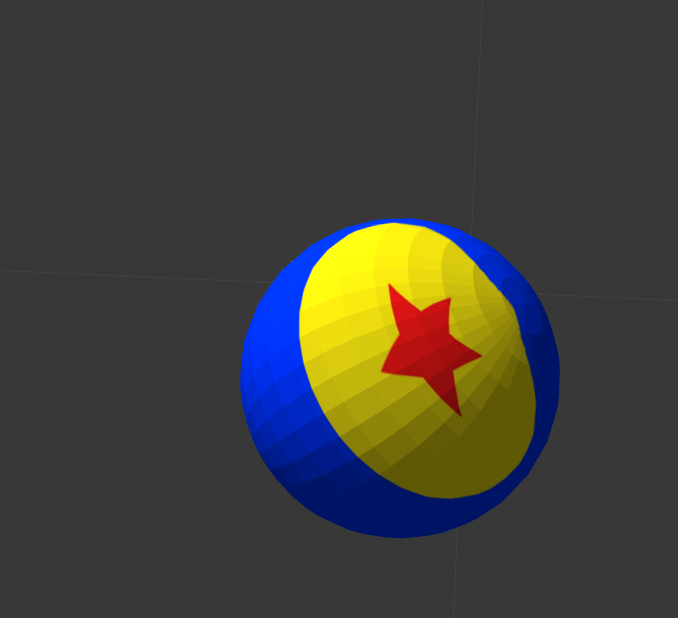toy story ball: (239, 217, 561, 539)
